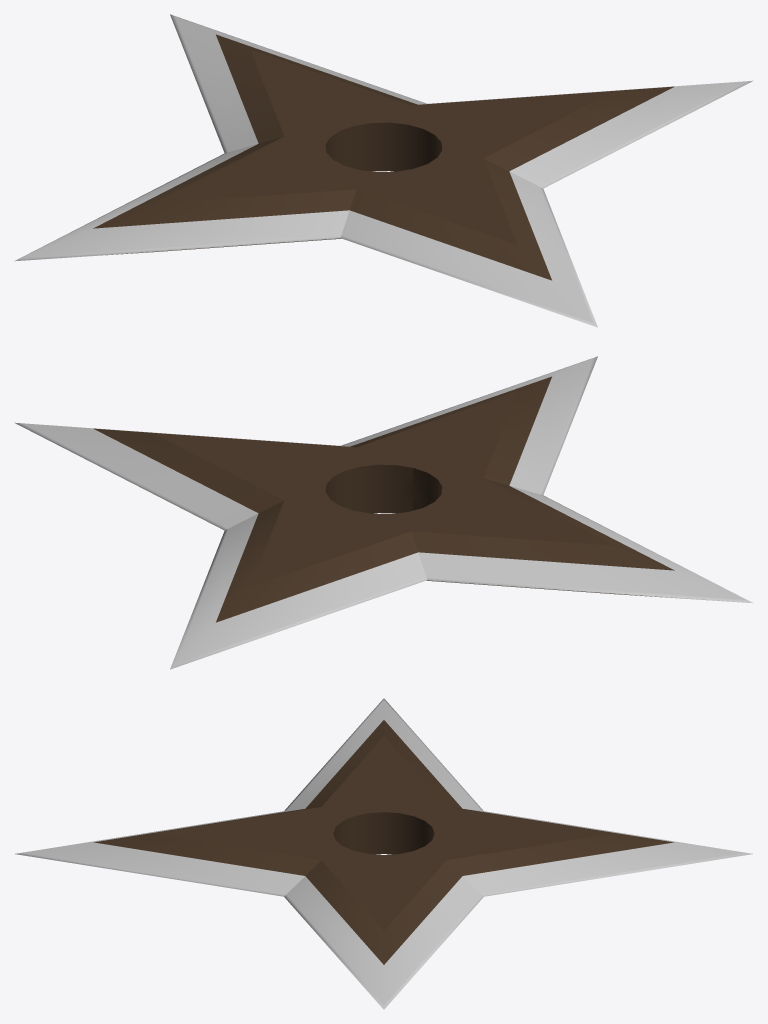
The model's file is SM_shuriken_Combined.fbx.
3 views of the same model, one above another, from view 1: azimuth 30°, elevation 25°; view 2: azimuth 150°, elevation 25°; view 3: azimuth 270°, elevation 25° (orthographic). The views are drawn at different scales.
Visible parts, largest first — view 1: shuriken_geo1; view 2: shuriken_geo1; view 3: shuriken_geo1.
Part boxes in pixels (box(x1,y1,x2,y2)): shuriken_geo1: box(14, 14, 753, 327); shuriken_geo1: box(14, 356, 753, 669); shuriken_geo1: box(15, 698, 752, 1009).
Bounding box in the file's own units: 15.99 × 1 × 16.03.
